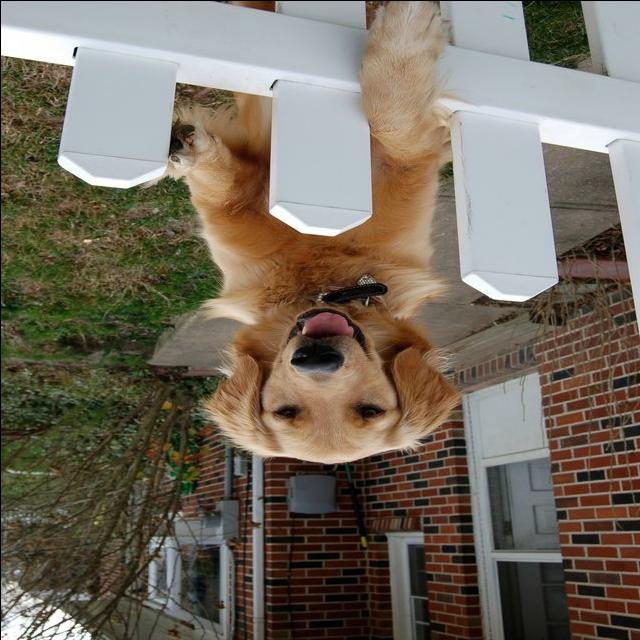retriever: (162, 2, 462, 466)
